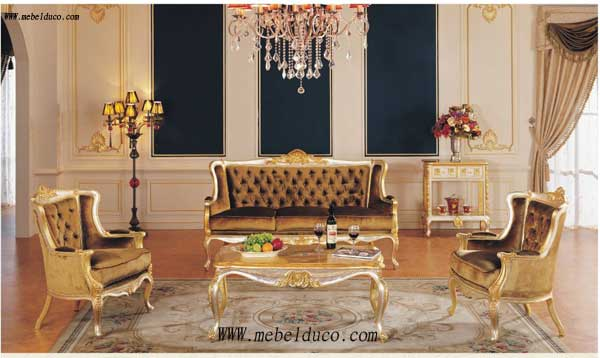Carving Chair: (206, 156, 409, 259), (30, 186, 160, 340), (444, 180, 575, 328)
Carving Table: (206, 244, 391, 333)
